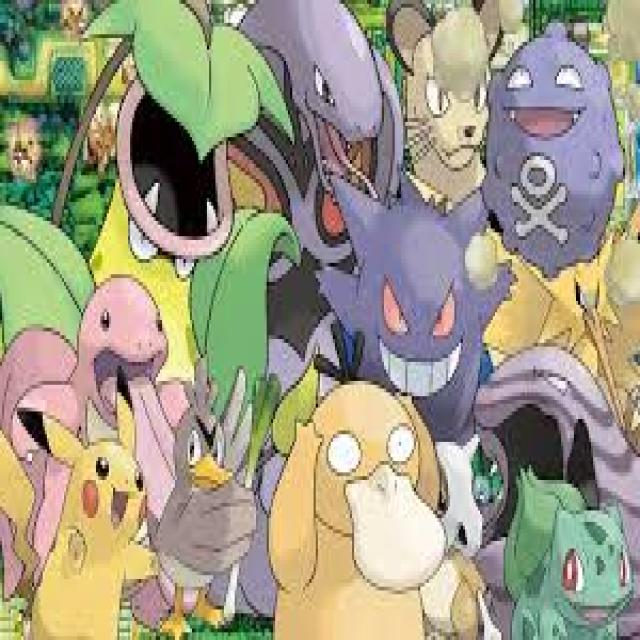Arbok: (227, 0, 393, 296)
Bulbasaur: (540, 499, 628, 640)
Farfetchd: (158, 389, 249, 626)
Gengar: (352, 191, 482, 419)
Koffing: (484, 29, 616, 265)
Pikachu: (35, 440, 145, 640)
Victreebel: (77, 67, 229, 391)
